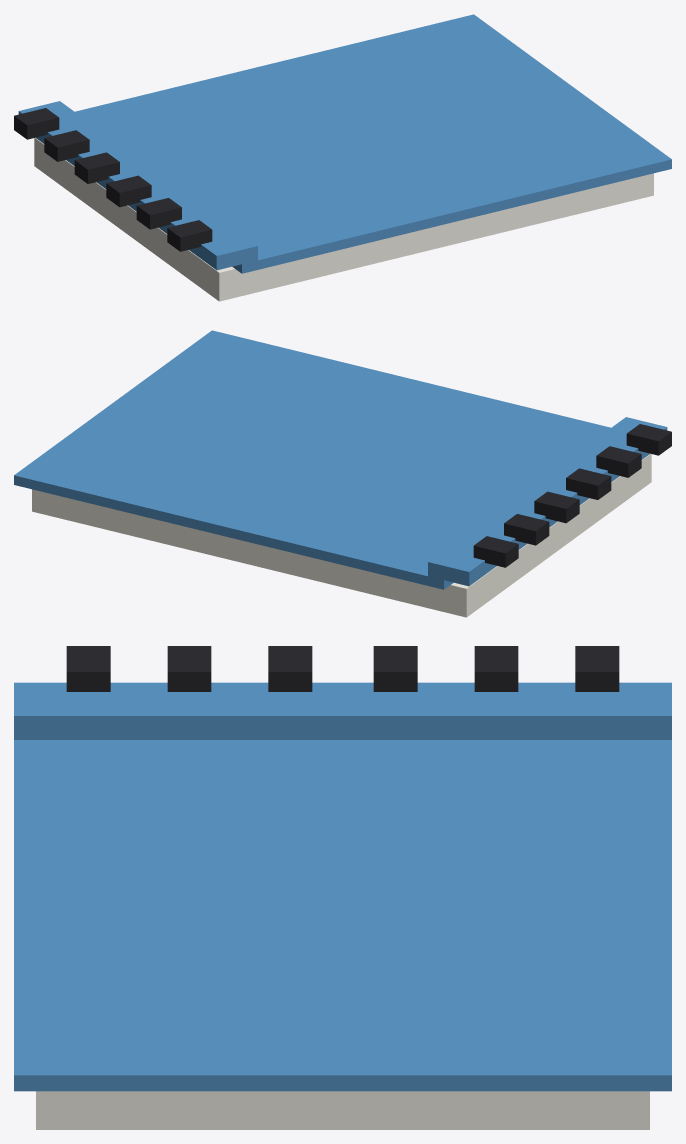
The model's file is office-notebook.glb.
The picture shows the model from 3 angles, top to bottom: view 1: azimuth 30°, elevation 25°; view 2: azimuth 150°, elevation 25°; view 3: azimuth 270°, elevation 25°; orthographic projection. The views are drawn at different scales.
Parts seen in each view (by area): view 1: AethelNotebook; view 2: AethelNotebook; view 3: AethelNotebook.
Boxes of the visible parts, box(x1,y1,x2,y2) form: AethelNotebook: box(14, 14, 671, 301); AethelNotebook: box(14, 330, 671, 617); AethelNotebook: box(14, 646, 671, 1129).
Size of the model in its own units: 0.208 by 0.027 by 0.15.
